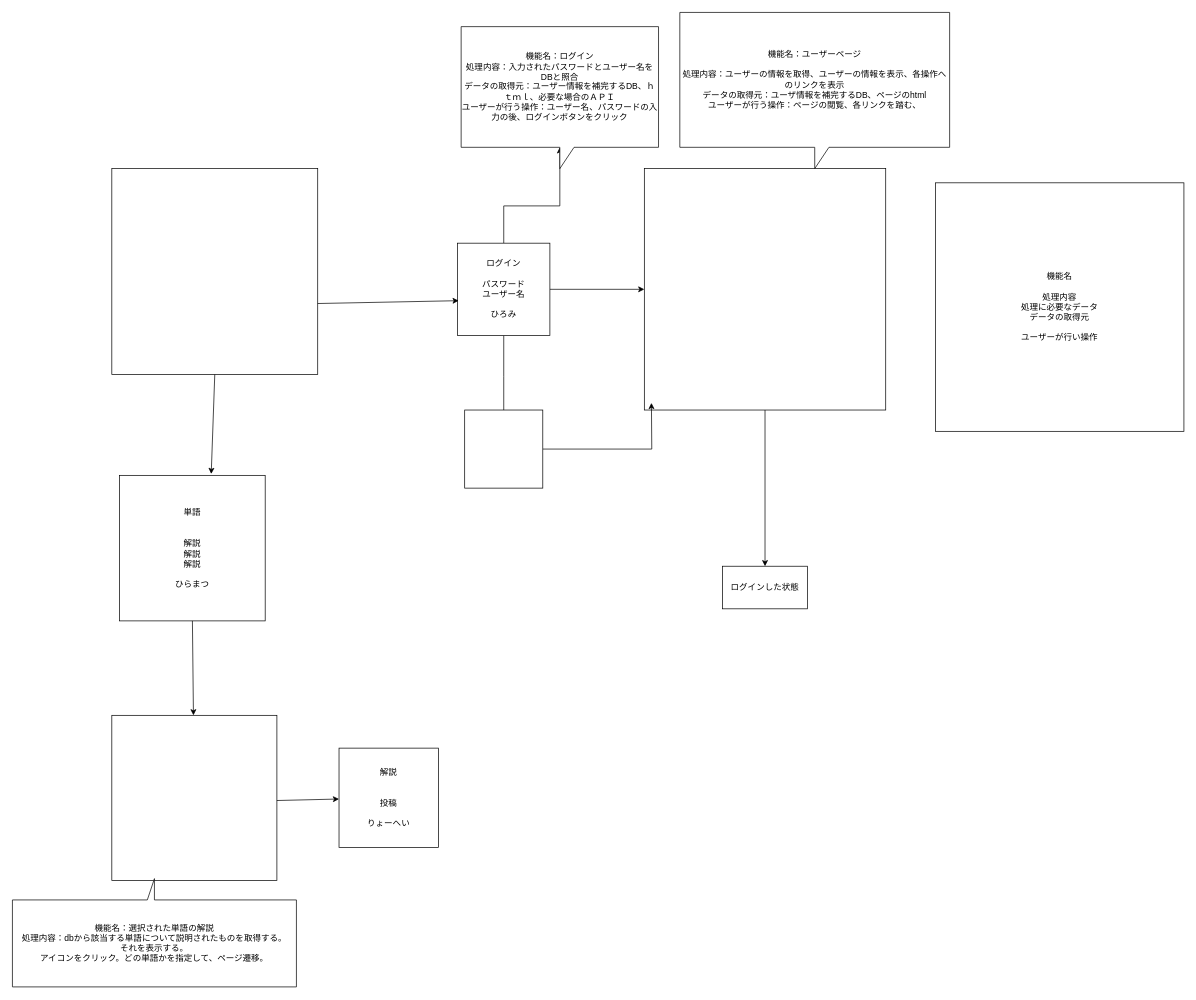
This 1196x1000 diagram has some shape labels left out. The shapes that lost their labels are listed below. From the top down, each one's centre as x and y in pixels, then its label:
At point (214, 271): "ホーム画面 検索窓 単語がずらり ひらまつ".
At point (765, 289): "ユーザーページ ユーザー名 過去の投稿一覧 ログアウト s".
At point (503, 448): "登録画面 名前 パスワード e-mail twitter,google API".
At point (194, 797): "単語の解説 書き込むアイコン りょーへい".
